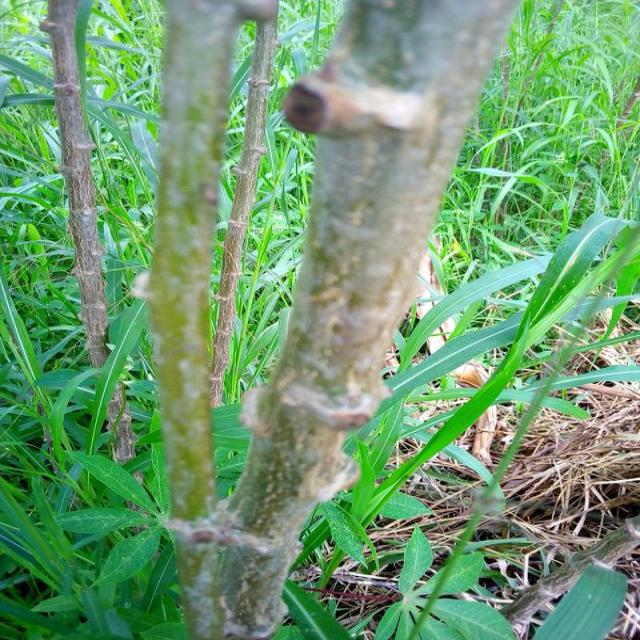cassava leaf: (171, 0, 527, 638)
